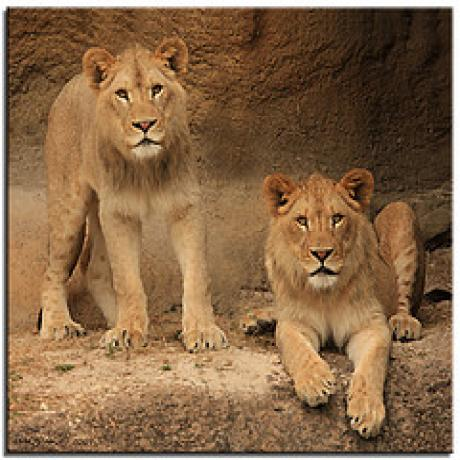Lion: (39, 36, 224, 349), (246, 167, 428, 437)
